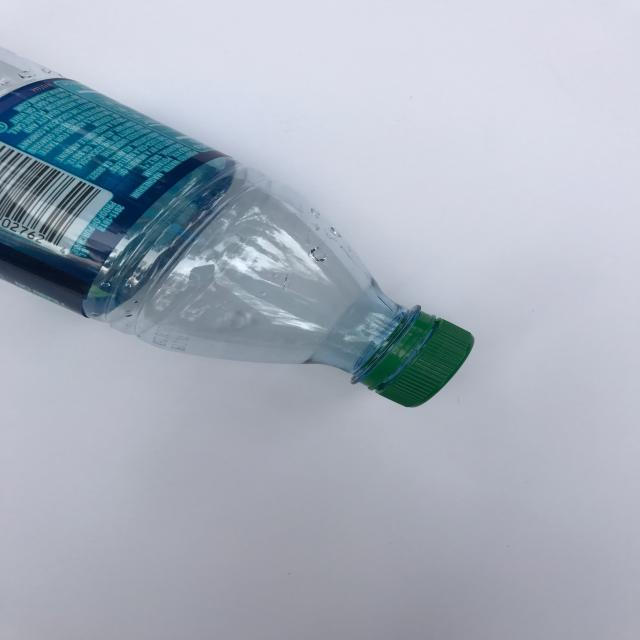plastic: (0, 45, 475, 408)
